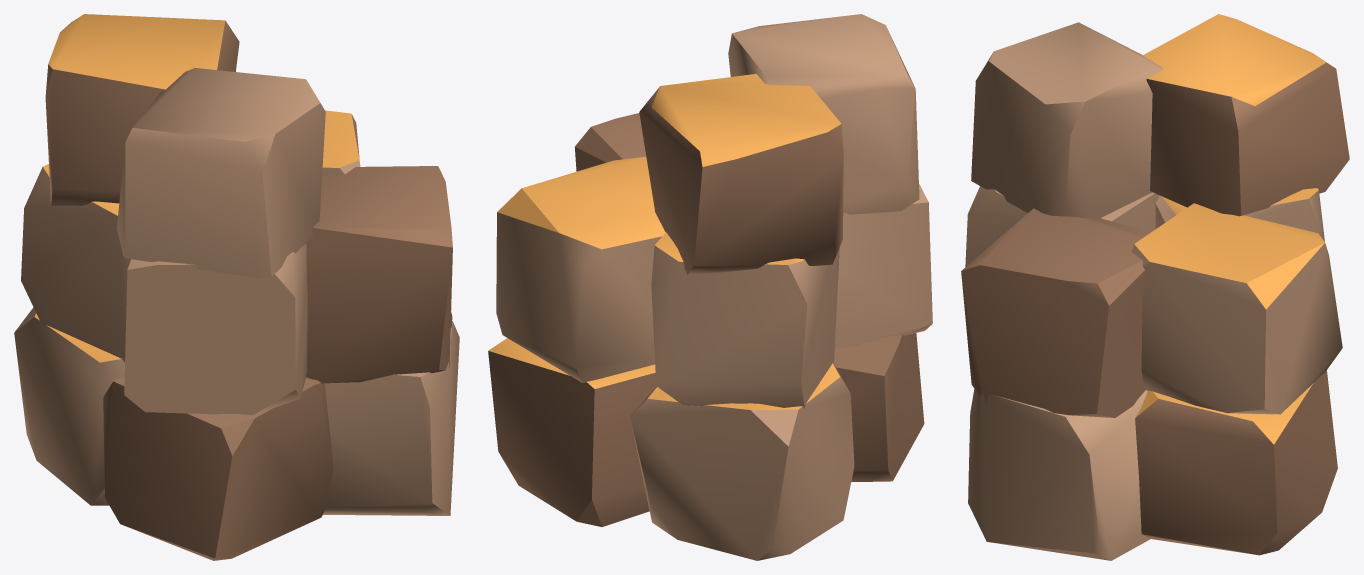
The model's file is breakable_chunks__upper.glb.
3 views of the same model, side by side, from view 1: azimuth 30°, elevation 25°; view 2: azimuth 150°, elevation 25°; view 3: azimuth 270°, elevation 25° (orthographic). The views are drawn at different scales.
Visible parts, largest first — view 1: Chunk_09, Chunk_01, Chunk_07, Chunk_05, Chunk_10, Chunk_03, Chunk_06, Chunk_02, Chunk_08; view 2: Chunk_10, Chunk_02, Chunk_08, Chunk_06, Chunk_04, Chunk_09, Chunk_05, Chunk_01, Chunk_07; view 3: Chunk_08, Chunk_07, Chunk_10, Chunk_09, Chunk_04, Chunk_03, Chunk_05, Chunk_06.
Part boxes in pixels (left/top/right/bottom): Chunk_09: left=117, top=68, right=325, bottom=277; Chunk_01: left=103, top=375, right=333, bottom=560; Chunk_07: left=306, top=166, right=452, bottom=383; Chunk_05: left=124, top=244, right=307, bottom=414; Chunk_10: left=45, top=14, right=239, bottom=205; Chunk_03: left=323, top=321, right=459, bottom=515; Chunk_06: left=21, top=164, right=130, bottom=362; Chunk_02: left=14, top=307, right=124, bottom=505; Chunk_08: left=322, top=110, right=360, bottom=175; Chunk_10: left=639, top=74, right=843, bottom=274; Chunk_02: left=630, top=363, right=854, bottom=560; Chunk_08: left=496, top=157, right=665, bottom=382; Chunk_06: left=651, top=232, right=839, bottom=408; Chunk_04: left=488, top=338, right=656, bottom=526; Chunk_09: left=728, top=14, right=919, bottom=214; Chunk_05: left=834, top=184, right=932, bottom=350; Chunk_01: left=834, top=333, right=924, bottom=481; Chunk_07: left=575, top=113, right=646, bottom=171; Chunk_08: left=1131, top=203, right=1342, bottom=414; Chunk_07: left=961, top=208, right=1151, bottom=417; Chunk_10: left=1142, top=14, right=1349, bottom=216; Chunk_09: left=971, top=22, right=1162, bottom=218; Chunk_04: left=1135, top=370, right=1337, bottom=555; Chunk_03: left=968, top=388, right=1150, bottom=560; Chunk_05: left=965, top=186, right=1159, bottom=266; Chunk_06: left=1155, top=188, right=1324, bottom=241.
Size of the model in its own units: 1.16 by 1.35 by 1.18.
